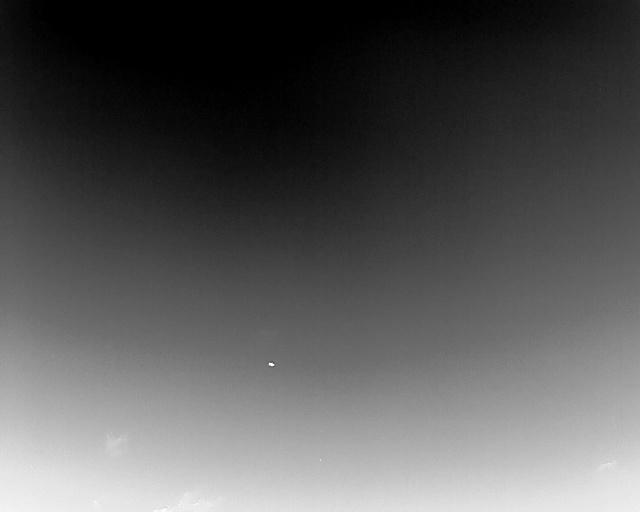fpv-drone: (267, 361, 275, 366)
